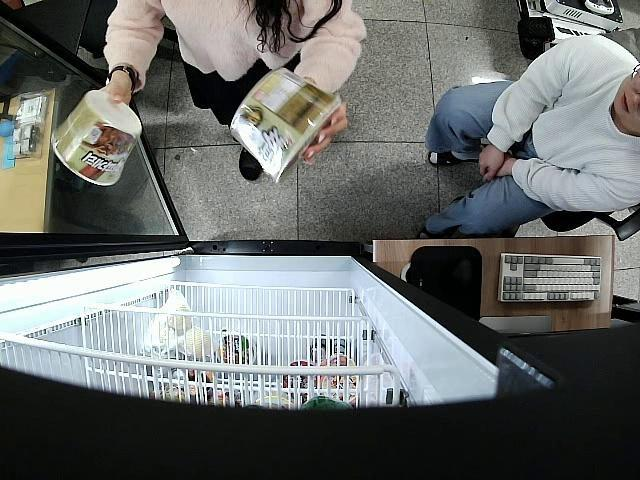03_chapagetti_L: (230, 67, 344, 184), (51, 89, 142, 186)
